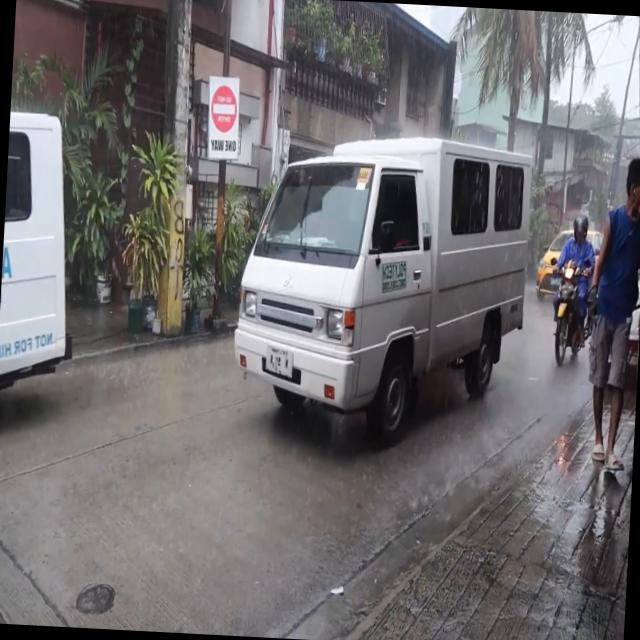half: (571, 212, 590, 250)
